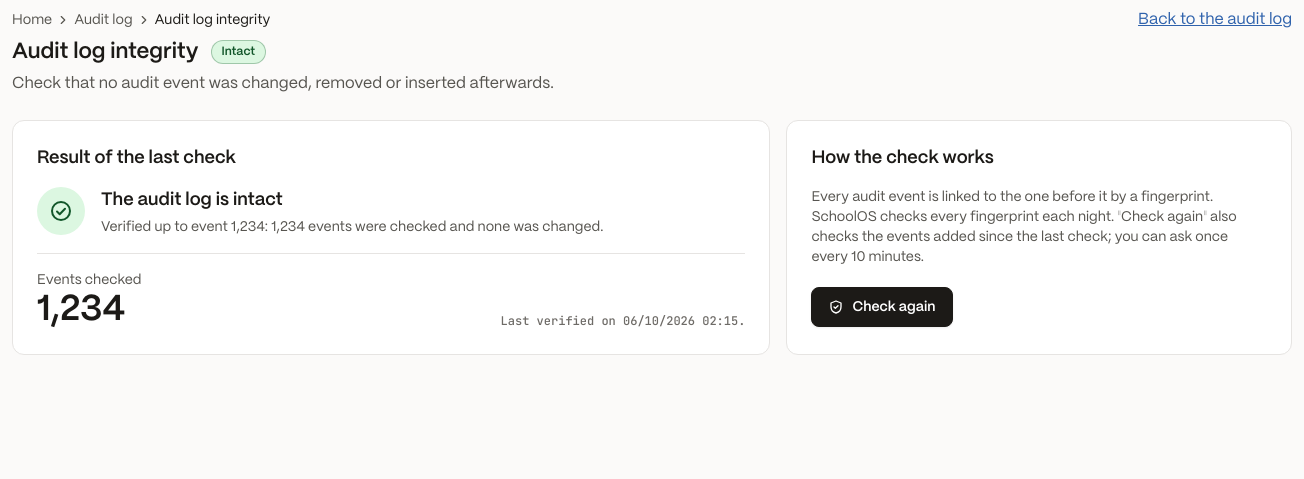
Test case: audit chain check (US-1001 AC2, FR-AUD-003, FR-AUD-005) › explains the 10-minute cool-down when the school asked a moment ago (429)
What coordinates should you click on to do the following:
click the button "Check again"
I would click on:
 (882, 307)
Its box is [811,287,952,327].
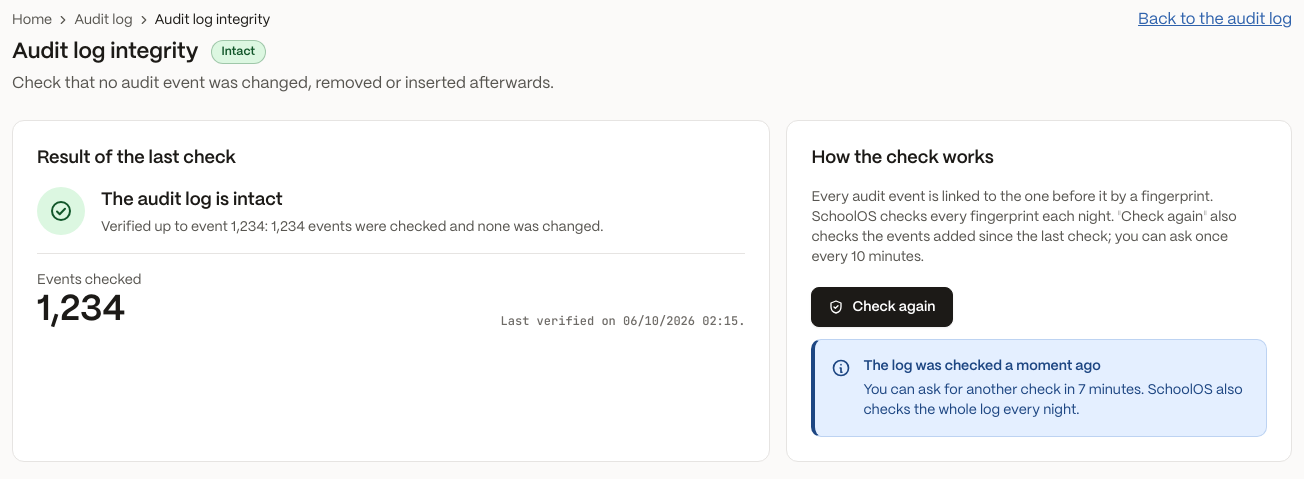
Expected: the text "The log was checked a moment ago" is shown, [863,359,1101,373]
Expected: the text "You can ask for another check in 7 minutes. SchoolOS also checks the whole log every night." is shown, [863,383,1243,417]
